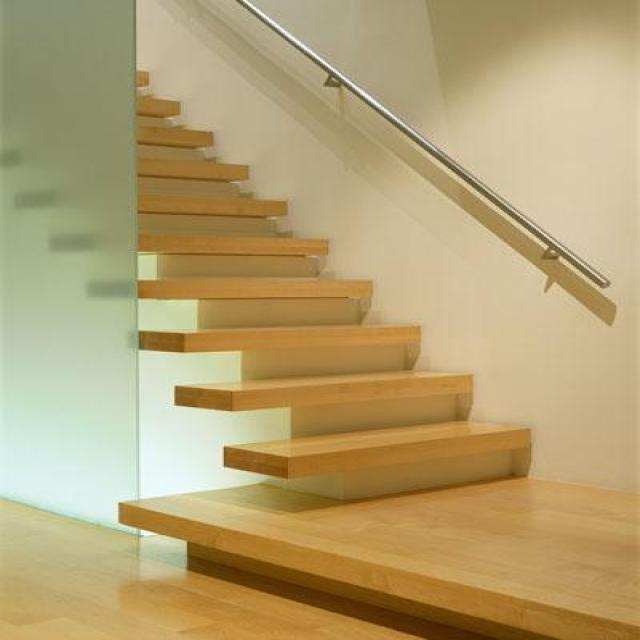stairs: (133, 68, 533, 503)
